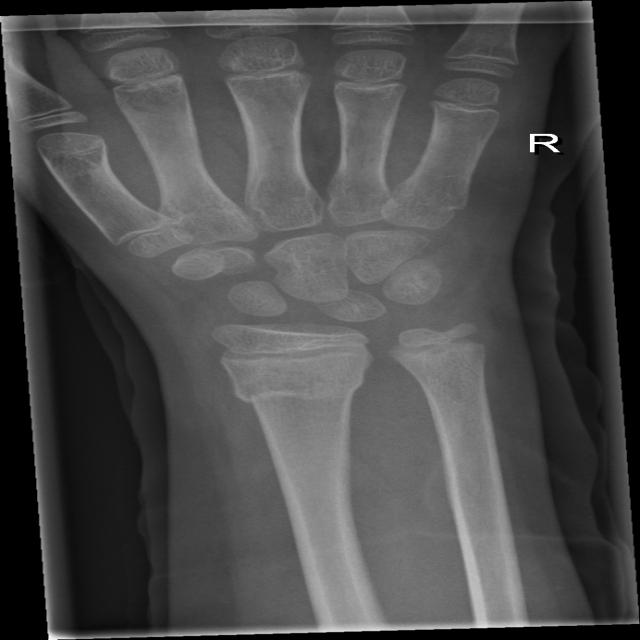radius fracture: (191, 365, 405, 486)
